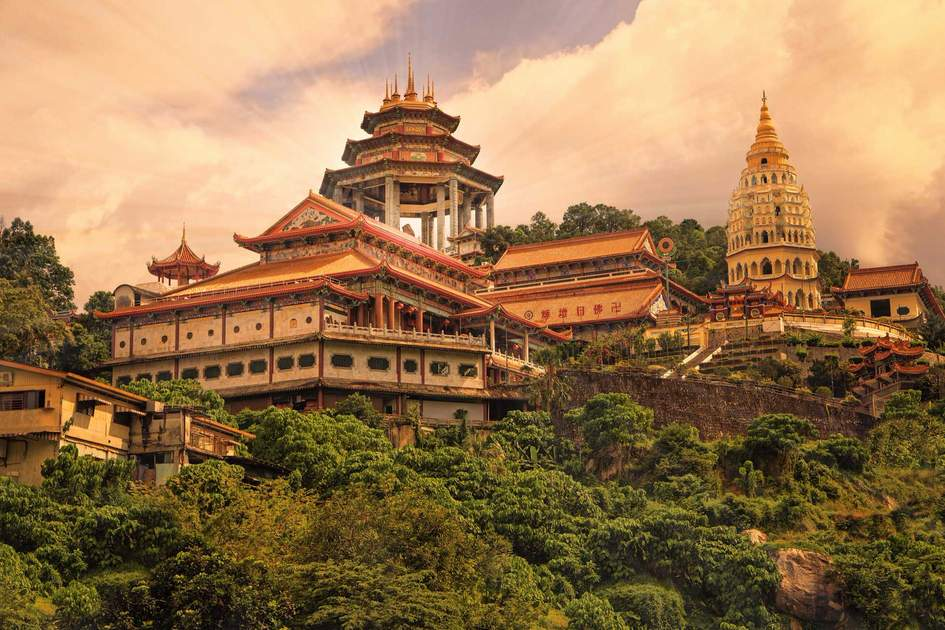Buddhist Temple: (150, 83, 529, 400), (689, 83, 820, 301)
